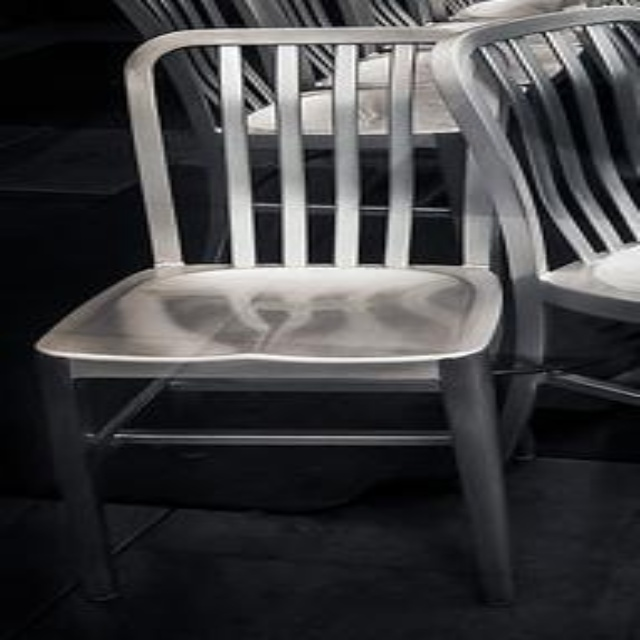obstacle: (37, 26, 506, 601)
